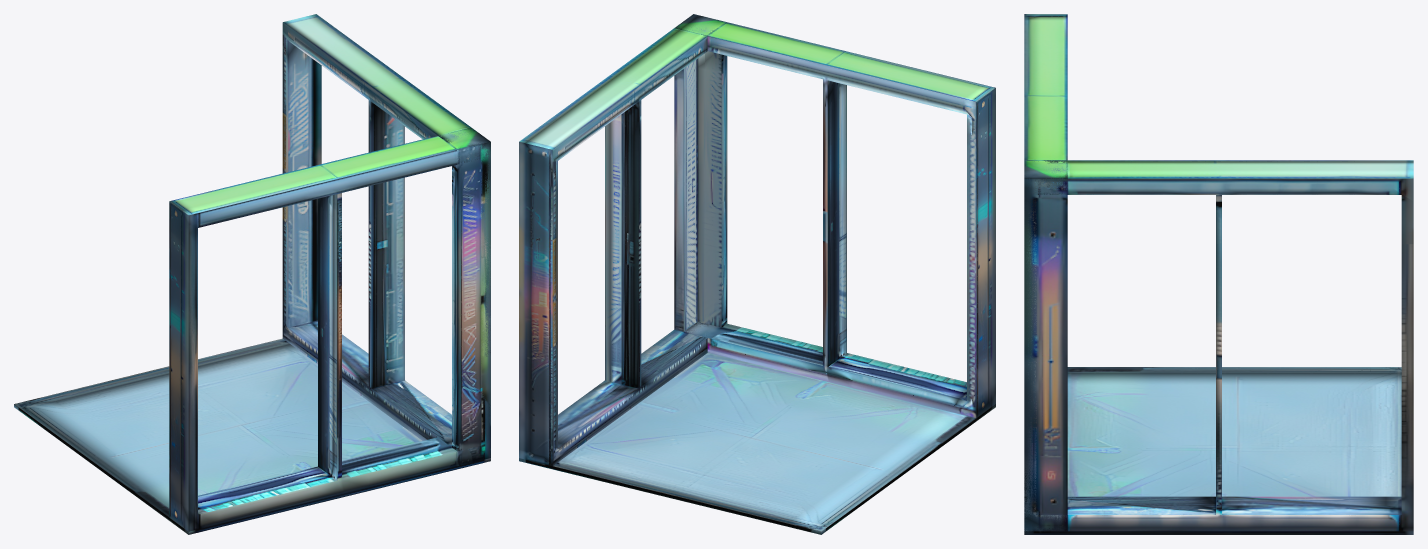
File: commercialBasicFloorWindowedWall2.glb
3 views of the same model, side by side, from view 1: azimuth 30°, elevation 25°; view 2: azimuth 150°, elevation 25°; view 3: azimuth 270°, elevation 25° (orthographic). The views are drawn at different scales.
Parts seen in each view (by area): view 1: commercialBasicFloorWindowedWall2; view 2: commercialBasicFloorWindowedWall2; view 3: commercialBasicFloorWindowedWall2.
Boxes of the visible parts, box(x1,y1,x2,y2) form: commercialBasicFloorWindowedWall2: box(14, 14, 490, 534); commercialBasicFloorWindowedWall2: box(519, 14, 995, 534); commercialBasicFloorWindowedWall2: box(1024, 14, 1413, 534).
Bounding box in the file's own units: 1 × 1.01 × 1.
Materials: 1 (1 with a texture image).
